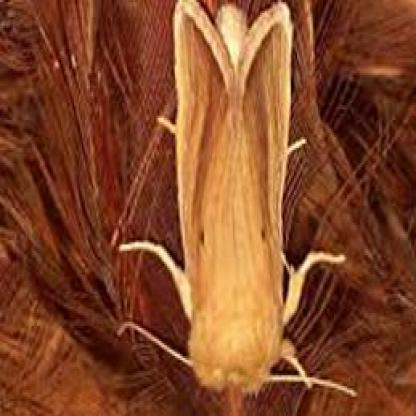stem-borer: (163, 0, 294, 397)
